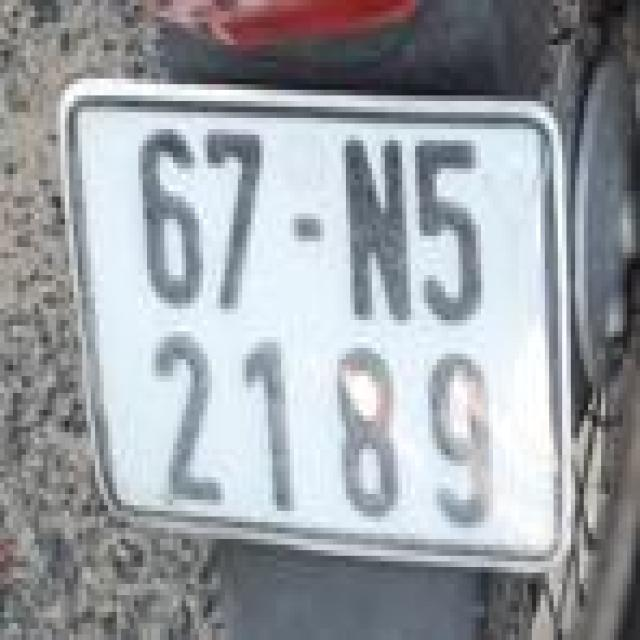1: (227, 328, 309, 525)
2: (152, 322, 230, 514)
5: (411, 132, 493, 334)
6: (134, 118, 203, 320)
7: (205, 126, 266, 306)
8: (326, 340, 408, 525)
9: (422, 342, 508, 534)
N: (331, 129, 417, 337)
